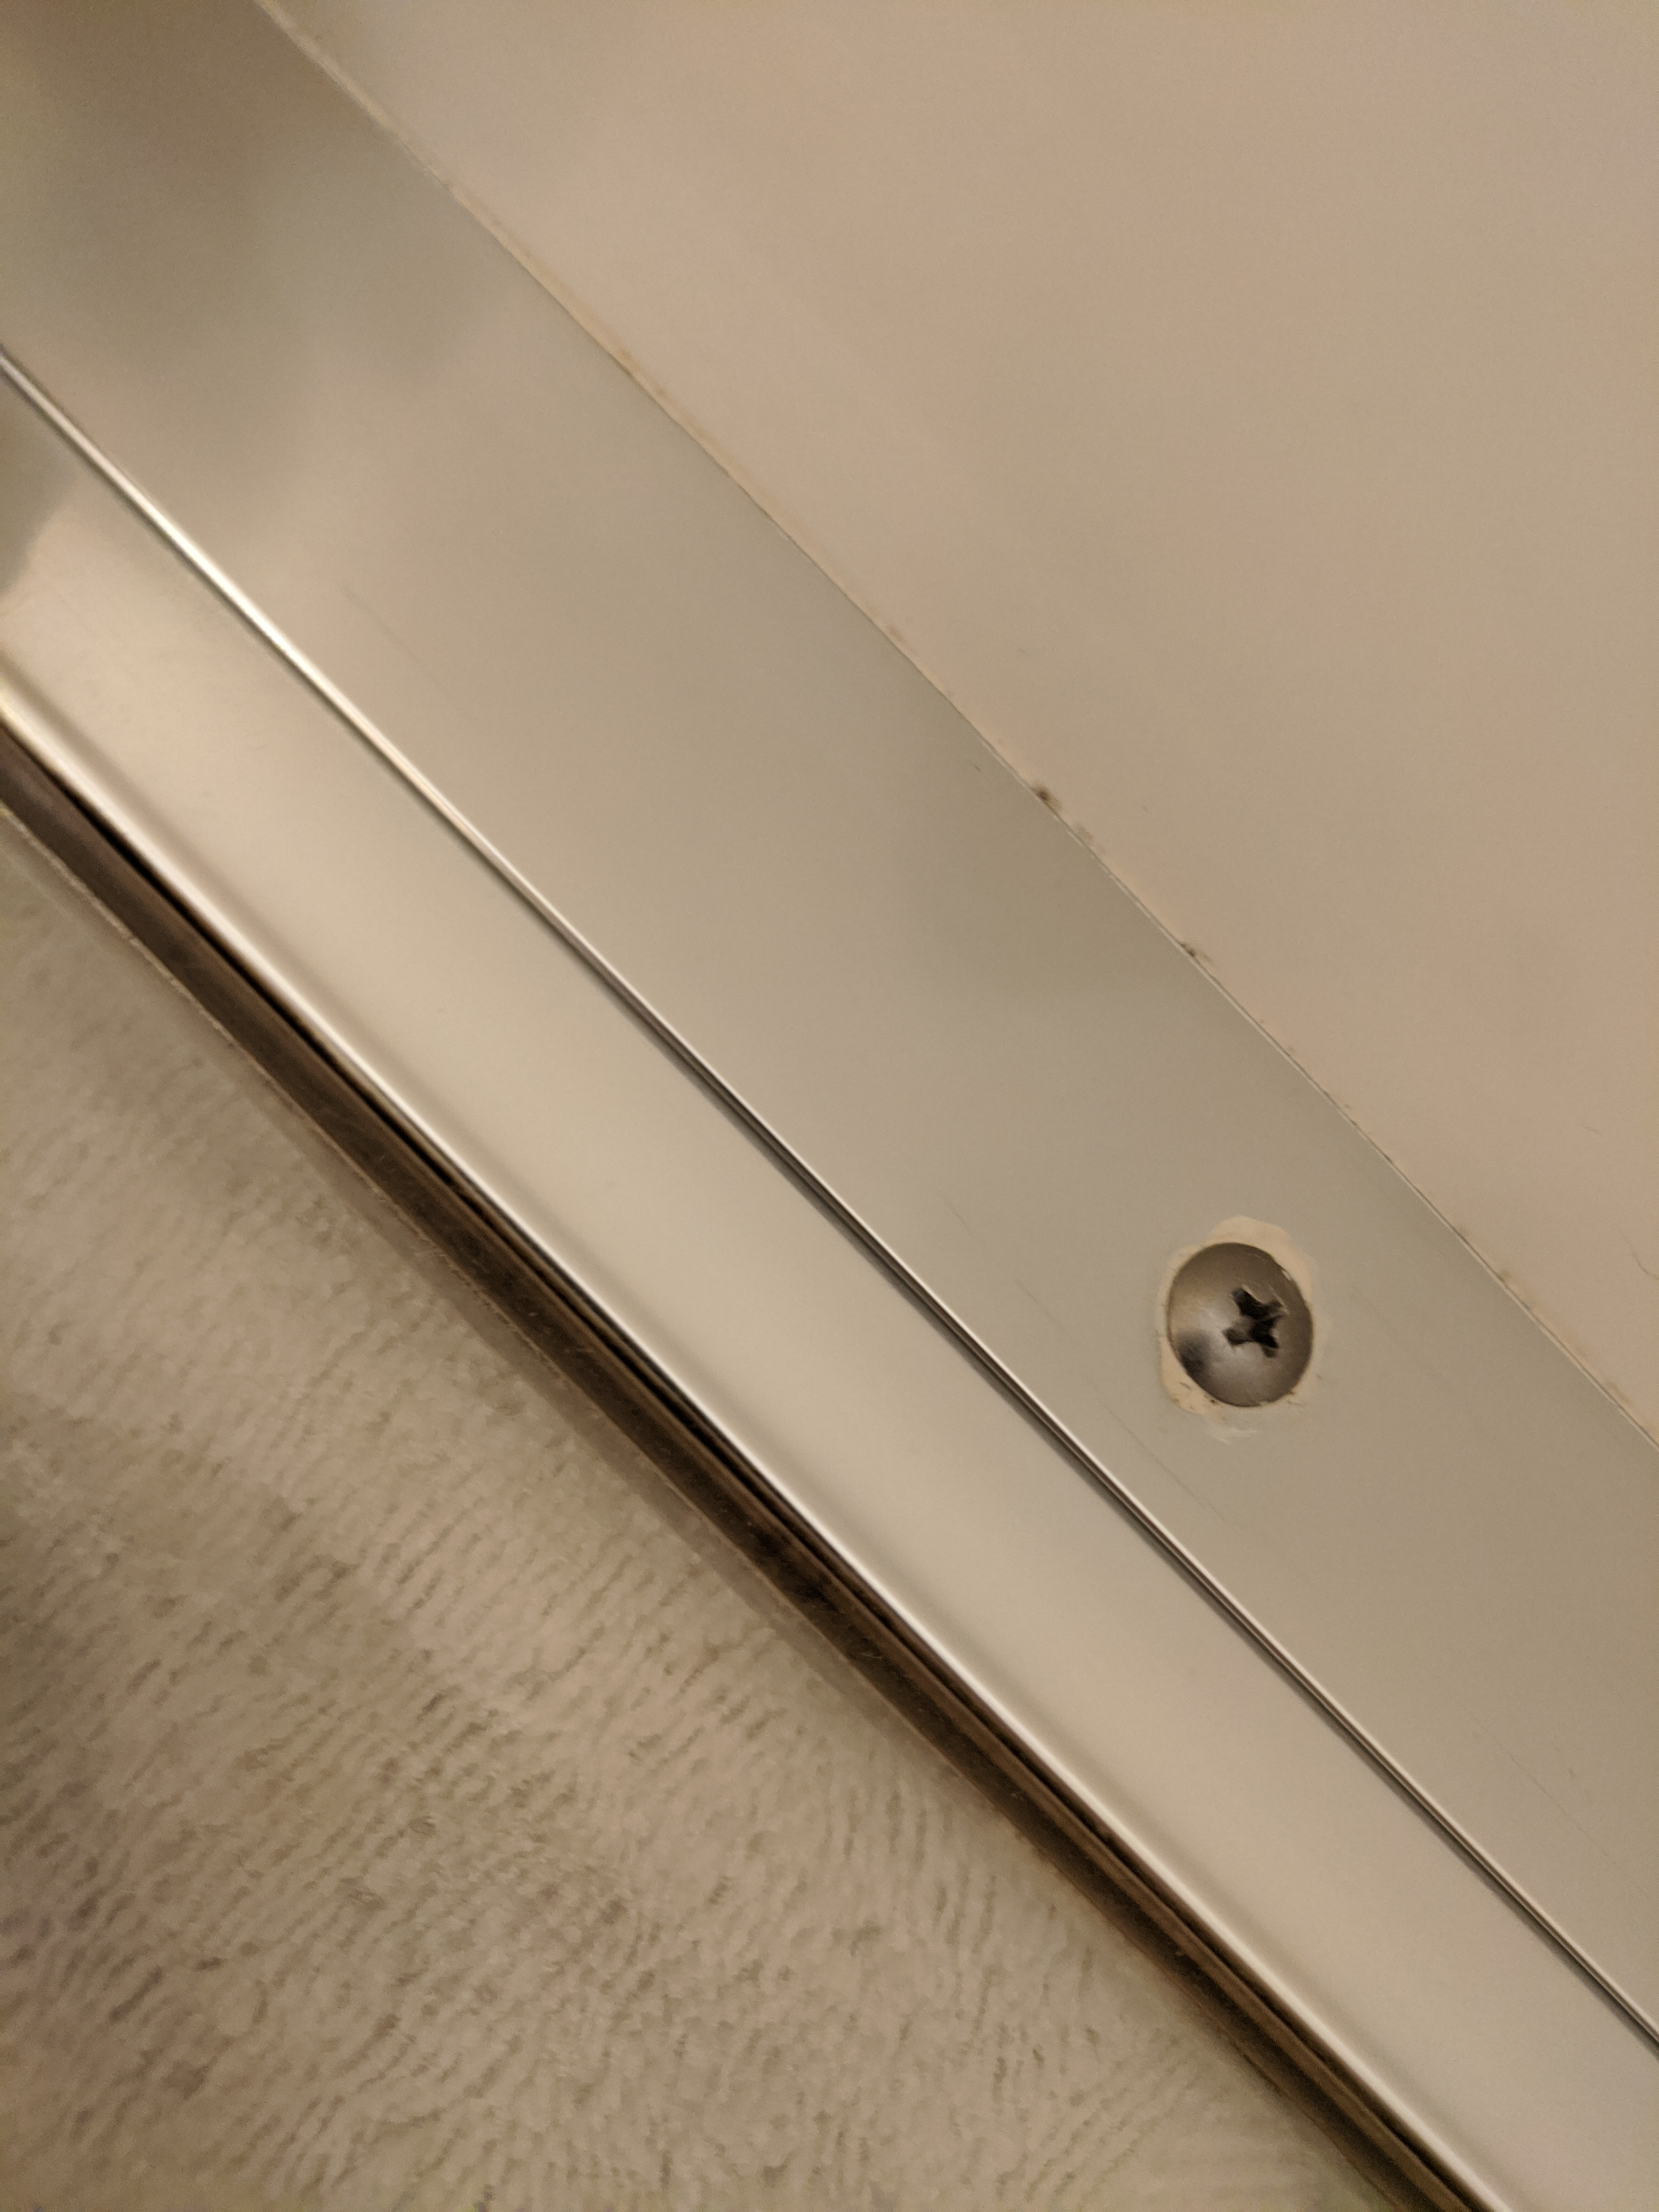cross_recessed_screw: (1140, 1238, 1342, 1407)
